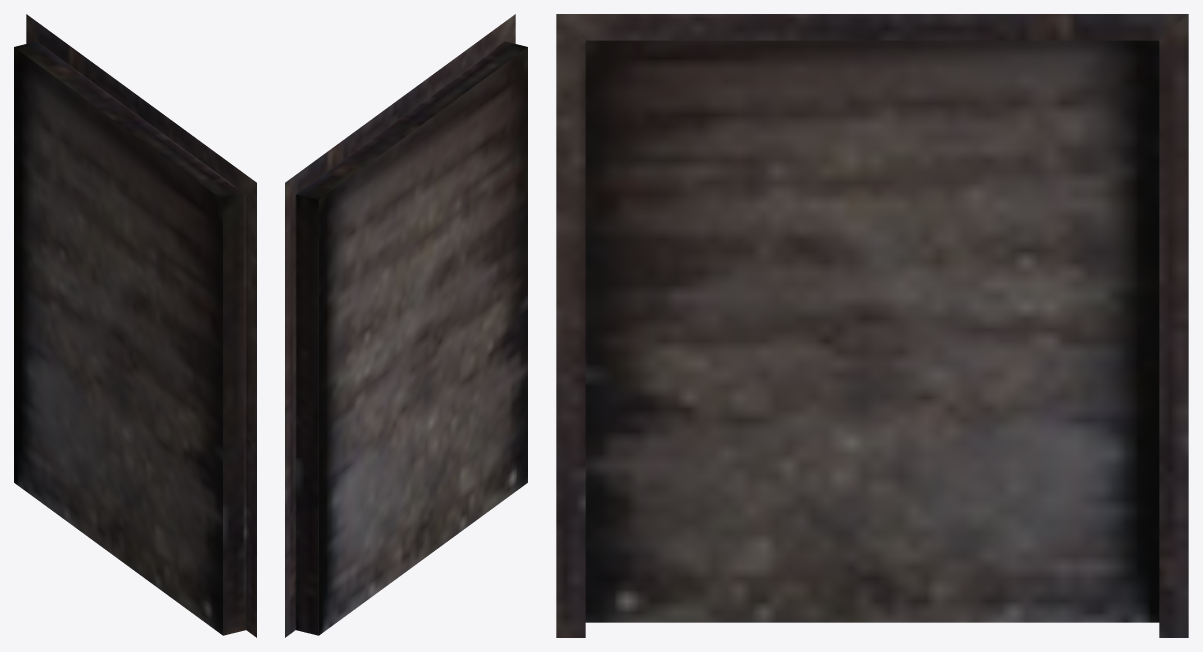
File: Shutter_02.FBX
The picture shows the model from 3 angles, left to right: view 1: azimuth 30°, elevation 25°; view 2: azimuth 150°, elevation 25°; view 3: azimuth 270°, elevation 25°; orthographic projection. The views are drawn at different scales.
Parts seen in each view (by area): view 1: Shutter_02; view 2: Shutter_02; view 3: Shutter_02.
Part boxes in pixels (<box>): Shutter_02: <box>14,14,256,637</box>; Shutter_02: <box>285,14,527,637</box>; Shutter_02: <box>556,14,1188,637</box>.
Size of the model in its own units: 18.62 by 351 by 322.
